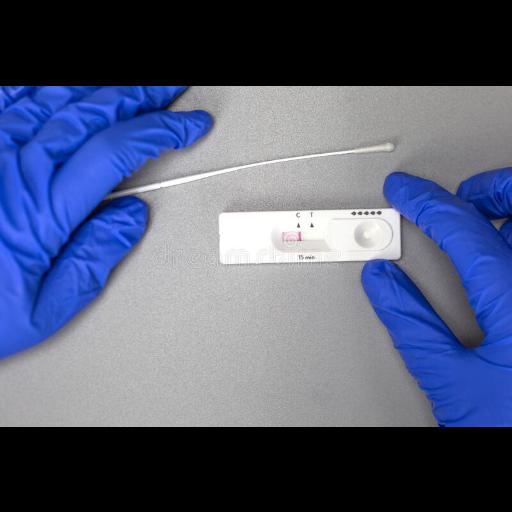Neg: (218, 208, 402, 258)
